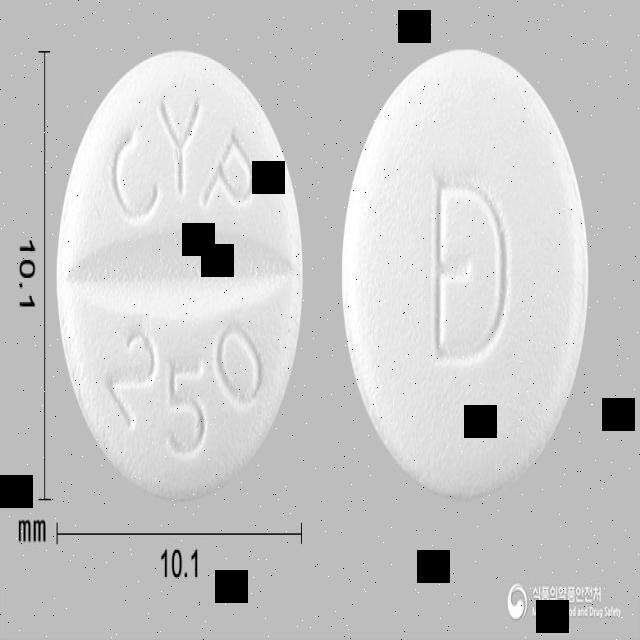Bearcin - 500mg: (54, 48, 308, 507)
